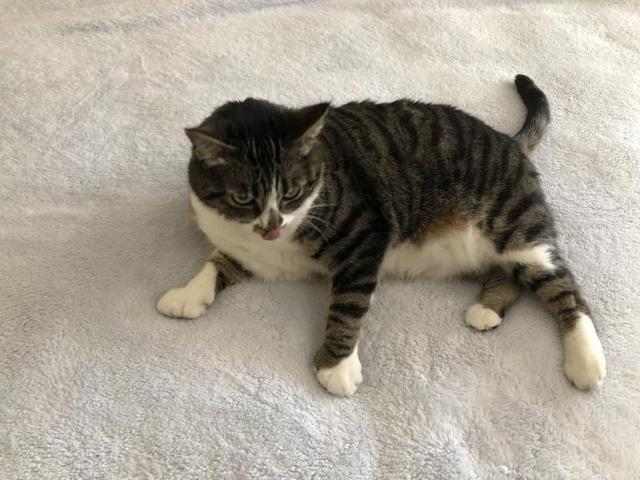playdoh: (150, 68, 609, 399)
